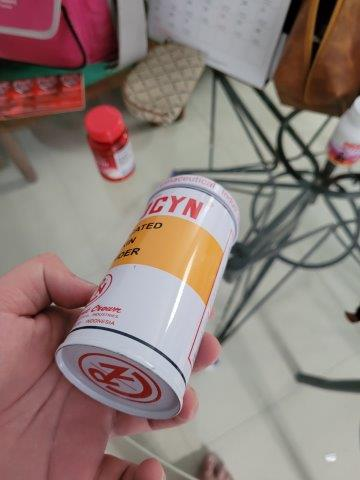kaleng: (52, 174, 238, 417)
